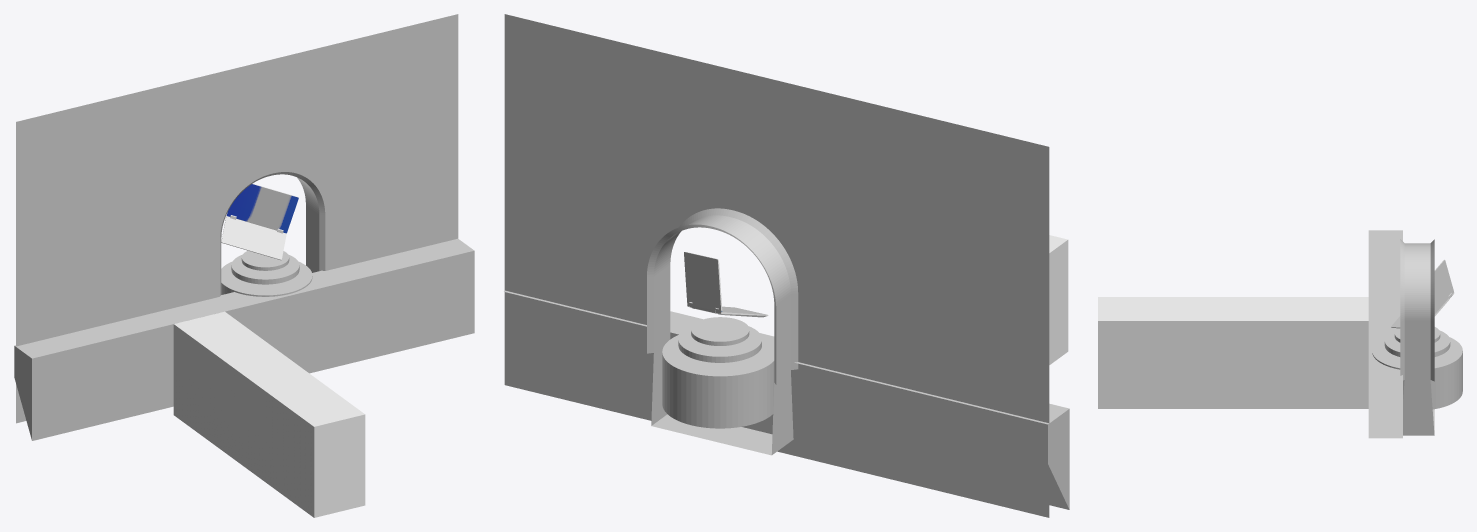
Rendered from hero_section_for_web.glb.
The picture shows the model from 3 angles, left to right: view 1: azimuth 30°, elevation 25°; view 2: azimuth 150°, elevation 25°; view 3: azimuth 270°, elevation 25°; orthographic projection. The views are drawn at different scales.
Parts seen in each view (by area): view 1: Lenovo laptop, Lenovo laptop.001; view 2: Lenovo laptop, Lenovo laptop.001; view 3: Lenovo laptop, Lenovo laptop.001.
Boxes of the visible parts, bbox=[...] form: Lenovo laptop: bbox=[14, 14, 474, 517]; Lenovo laptop.001: bbox=[221, 183, 298, 260]; Lenovo laptop: bbox=[504, 14, 1069, 517]; Lenovo laptop.001: bbox=[684, 252, 768, 317]; Lenovo laptop: bbox=[1098, 230, 1462, 438]; Lenovo laptop.001: bbox=[1391, 259, 1454, 328].
Bounding box in the file's own units: 25.33 × 17.26 × 18.75.
Materials: 4 (1 with a texture image).
